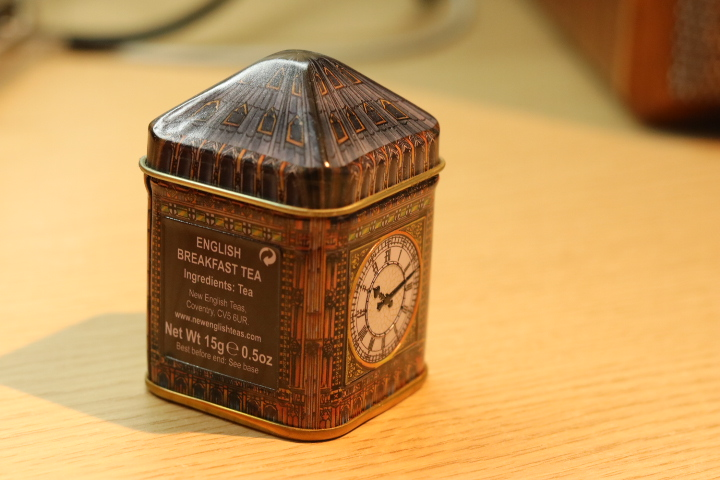Big Ben: (130, 41, 451, 447)
